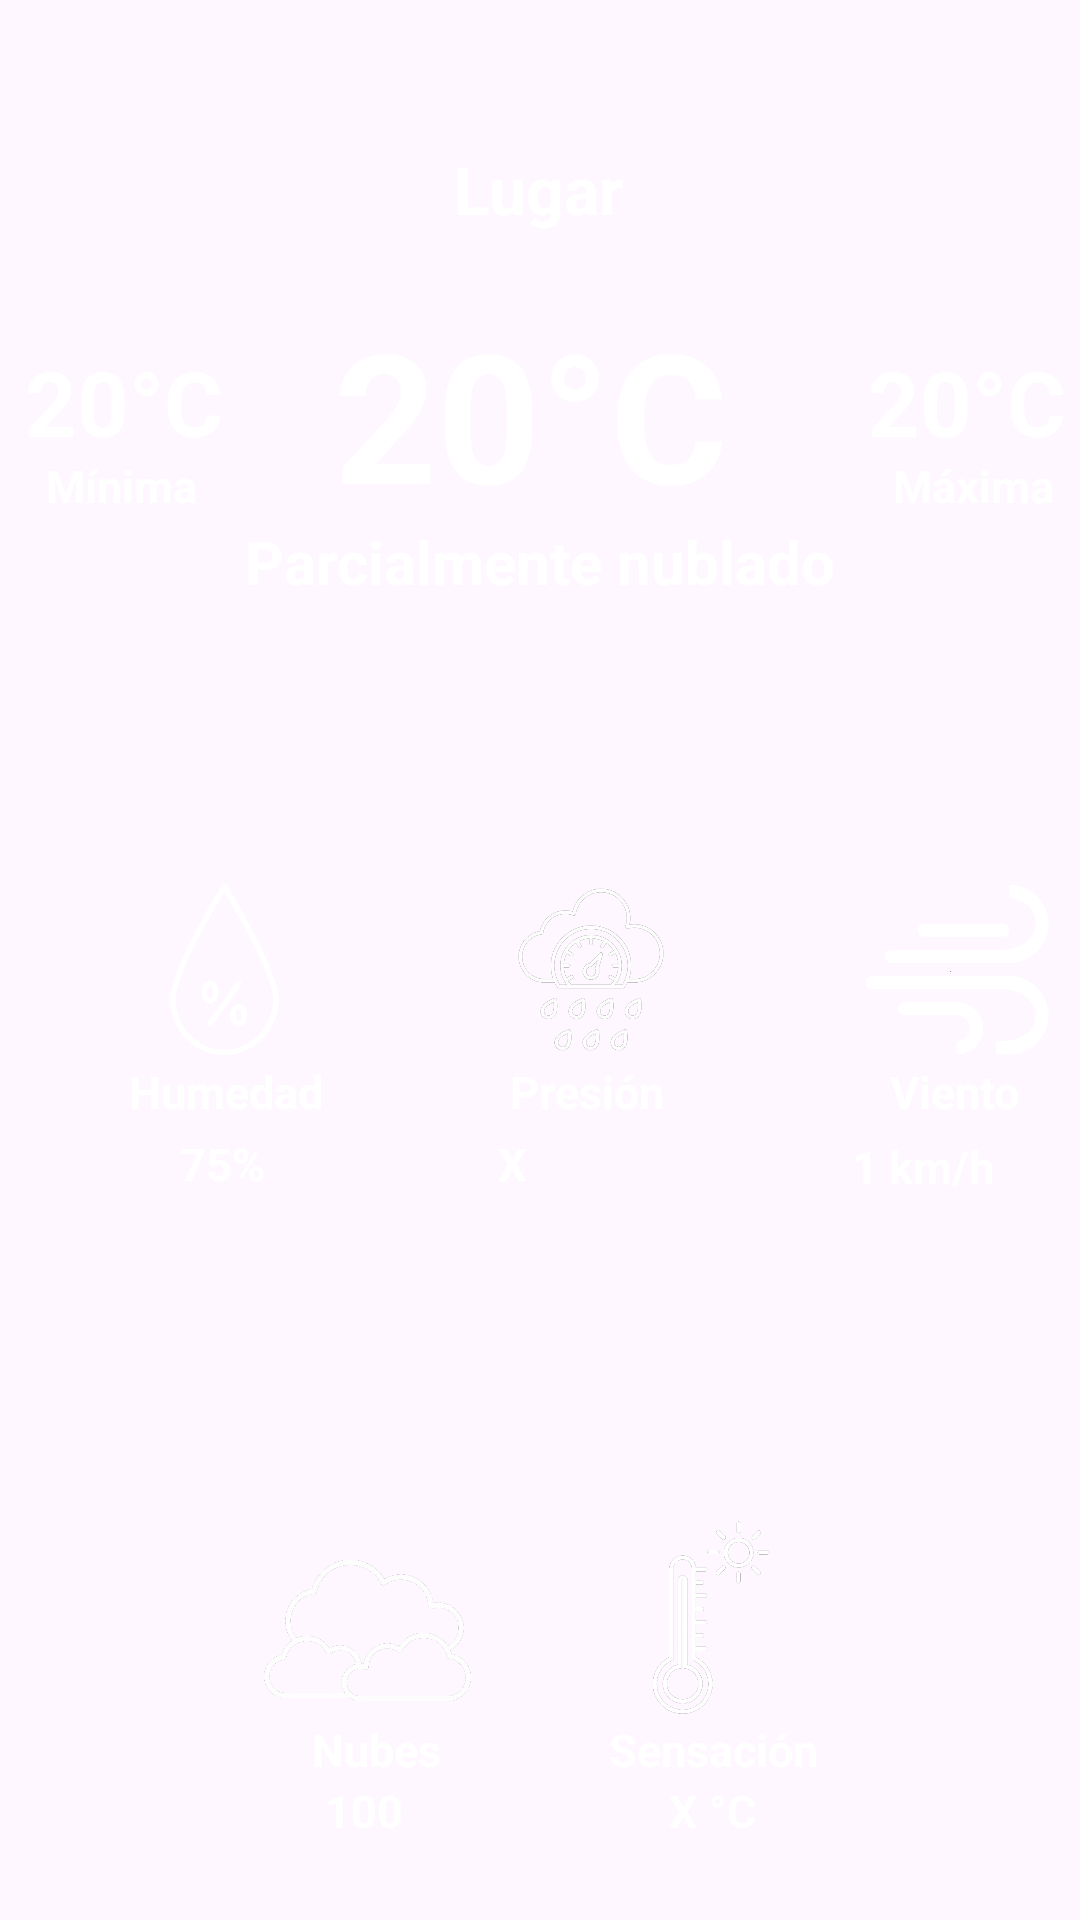

Named icons in this screenshot (1080×1920) and their centers, (x=x, y=y):
termometro: (x=710, y=1617)
